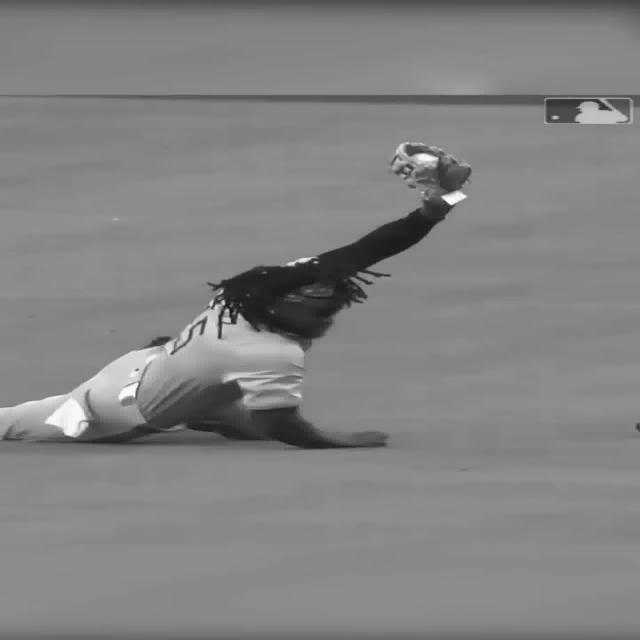baseball: (409, 152, 440, 166)
baseball_glove: (395, 142, 471, 195)
